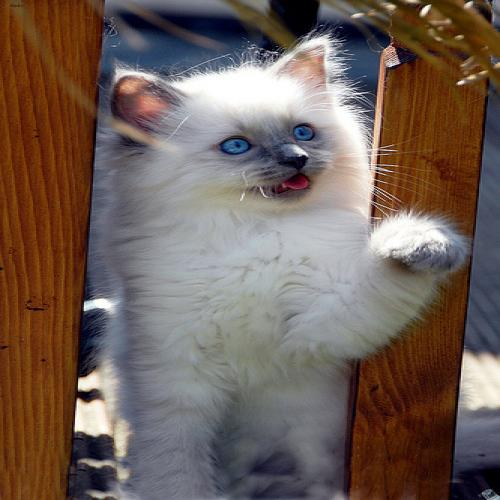ragdoll: (114, 29, 365, 231)
